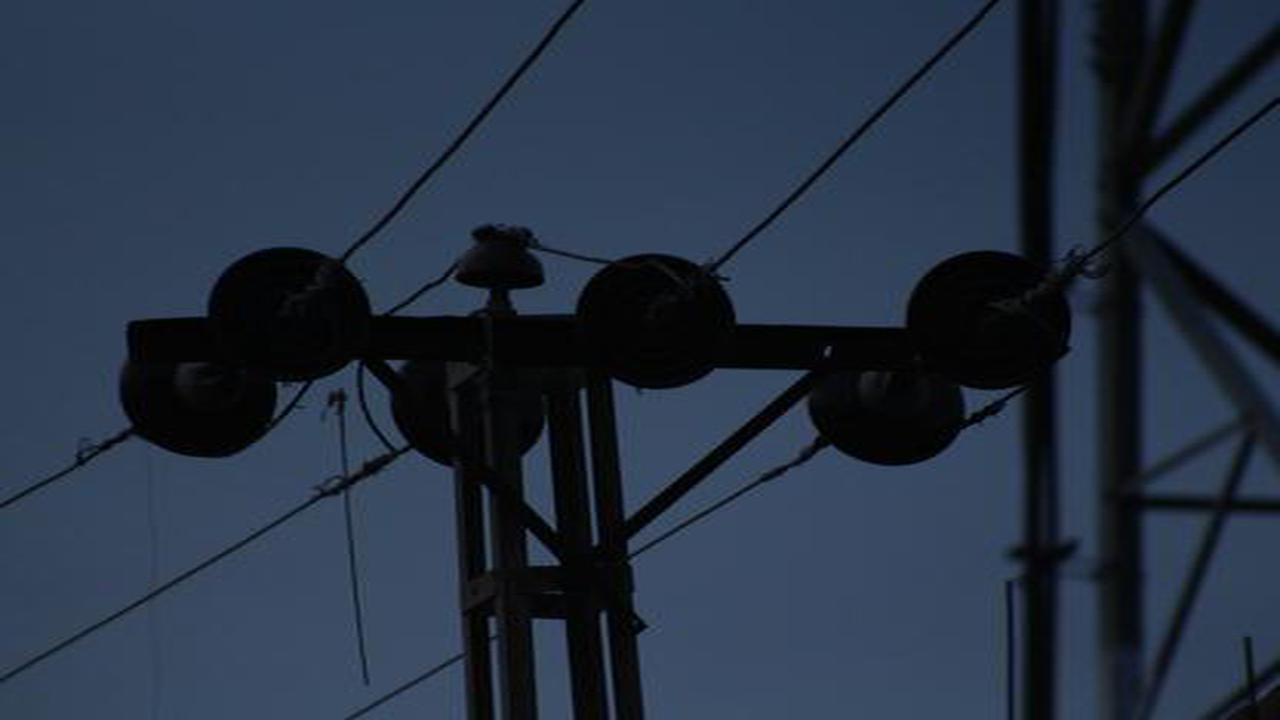insulator_disc: (902, 249, 1075, 394), (204, 243, 377, 386), (573, 247, 742, 392), (116, 349, 286, 464), (802, 346, 971, 461)
insulator_pin: (451, 215, 552, 300)
